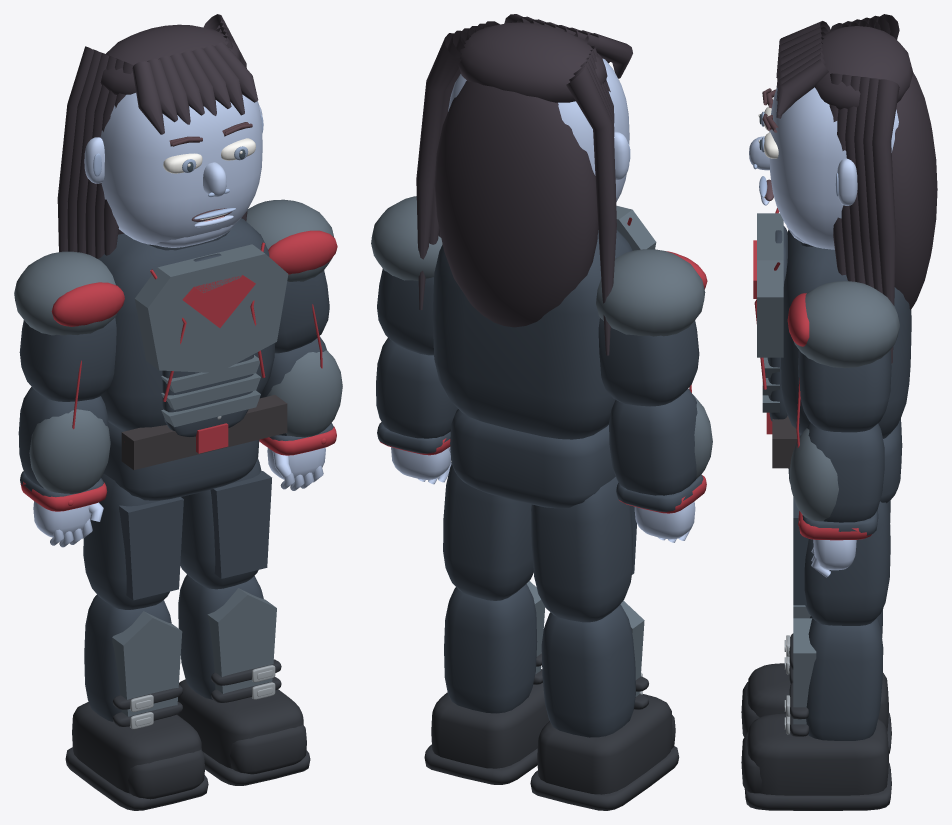
File: SEVIRRUS_Pre_Emperor_Hak.glb
3 renders of one model, left to right at view 1: azimuth 30°, elevation 25°; view 2: azimuth 150°, elevation 25°; view 3: azimuth 270°, elevation 25°, orthographic. The views are drawn at different scales.
Visible parts, largest first — view 1: Face, Sevirrus angular breastplate, Puffer body, R upperArm, R foot boot, Pants hips, Forearm carapace -1, Thigh plate -1, Thigh plate 1, L foot boot, Shin armour -1, Shin armour 1 (+45 smaller); view 2: Long hair back, Puffer body, R thigh, Pants hips, R shin, L shin, L thigh, R foot boot, Hair crown, R lowerArm, Armoured pauldron -1, R upperArm (+19 smaller); view 3: Face, L foot boot, L shin, Long hair back, Armoured pauldron 1, Puffer body, L thigh, L upperArm, Hair crown, L lowerArm, Long hair layered strand 15, Sevirrus angular breastplate (+23 smaller).
Boxes of the visible parts, box(x1,y1,x2,y2) form: Face: box(100, 93, 262, 245); Sevirrus angular breastplate: box(134, 244, 288, 373); Puffer body: box(95, 218, 275, 431); R upperArm: box(19, 317, 116, 401); R foot boot: box(72, 702, 201, 793); Pants hips: box(104, 422, 259, 500); Forearm carapace -1: box(29, 409, 110, 493); Thigh plate -1: box(119, 497, 183, 600); Thigh plate 1: box(210, 471, 271, 578); L foot boot: box(177, 679, 303, 768); Shin armour -1: box(112, 611, 182, 716); Shin armour 1: box(207, 588, 276, 693); Long hair back: box(434, 81, 598, 327); Puffer body: box(432, 230, 632, 439); R thigh: box(531, 477, 633, 622); Pants hips: box(450, 409, 615, 508); R shin: box(541, 604, 635, 737); L shin: box(444, 584, 537, 713); L thigh: box(443, 464, 533, 600); R foot boot: box(537, 694, 672, 794); Hair crown: box(458, 22, 607, 102); R lowerArm: box(609, 388, 697, 495); Armoured pauldron -1: box(596, 249, 705, 336); R upperArm: box(598, 318, 699, 406); Face: box(769, 87, 898, 249); L foot boot: box(747, 713, 888, 795); L shin: box(806, 616, 883, 740); Long hair back: box(891, 73, 937, 309); Armoured pauldron 1: box(794, 281, 899, 368); Puffer body: box(781, 229, 911, 438); L thigh: box(804, 501, 890, 625); L upperArm: box(798, 350, 891, 432); Hair crown: box(815, 26, 913, 109); L lowerArm: box(806, 422, 884, 522); Long hair layered strand 15: box(872, 79, 899, 363); Sevirrus angular breastplate: box(757, 213, 783, 357).
Size of the model in its own units: 0.8932 by 2 by 0.4883.
